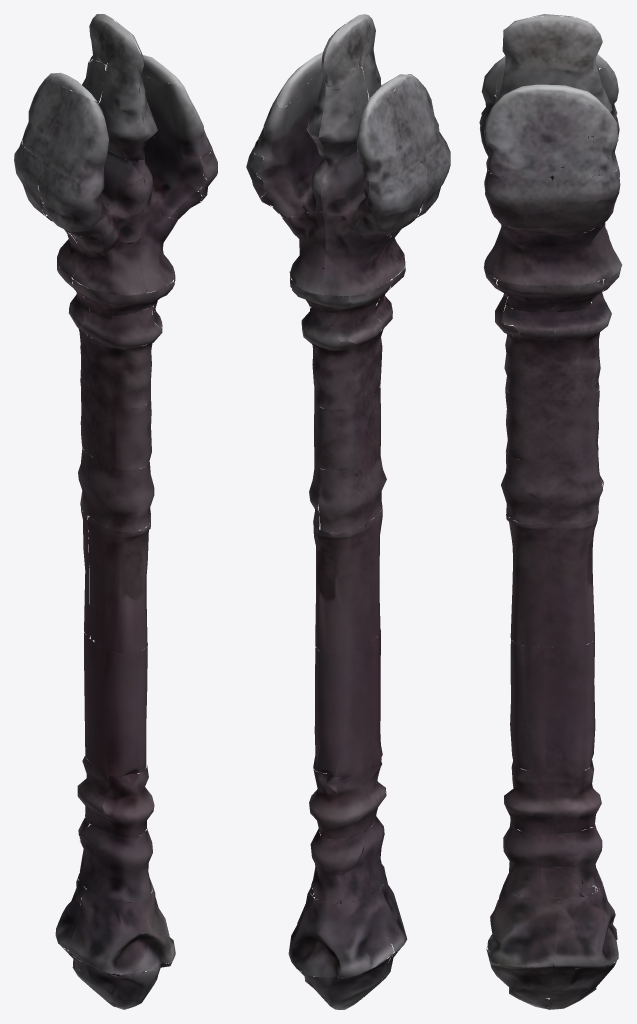
The model's file is staff3.glb.
3 renders of one model, left to right at view 1: azimuth 30°, elevation 25°; view 2: azimuth 150°, elevation 25°; view 3: azimuth 270°, elevation 25°, orthographic.
Parts seen in each view (by area): view 1: staff3; view 2: staff3; view 3: staff3.
Boxes of the visible parts, <box> form: staff3: <box>14,14,217,1009</box>; staff3: <box>246,14,450,1009</box>; staff3: <box>479,14,622,1009</box>.
Size of the model in its own units: 0.1664 by 0.9997 by 0.1305.
Materials: 1 (1 with a texture image).
